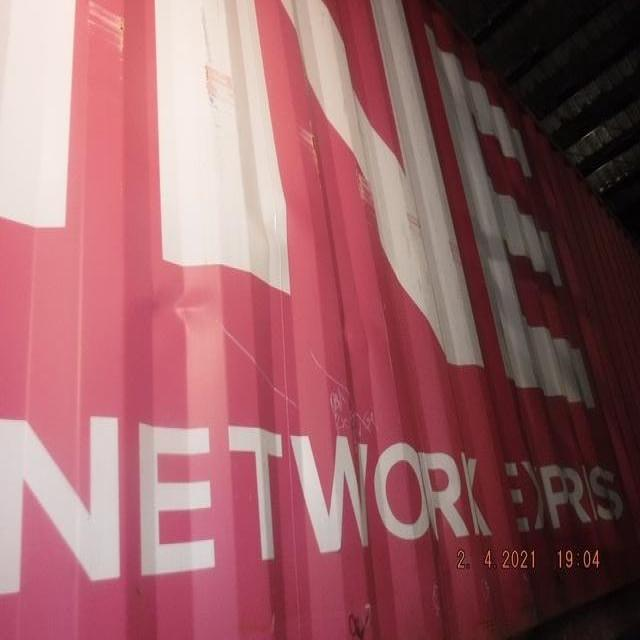dent: (150, 244, 236, 345)
